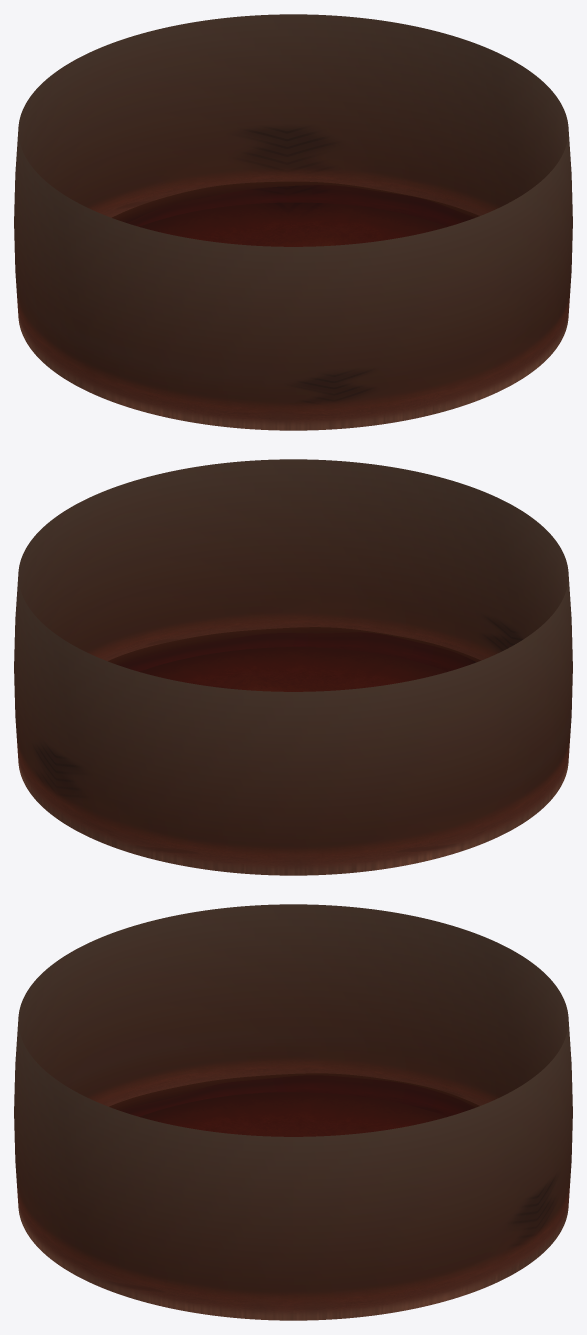
File: dome-basin-panorama.glb
3 renders of one model, top to bottom at view 1: azimuth 30°, elevation 25°; view 2: azimuth 150°, elevation 25°; view 3: azimuth 270°, elevation 25°, orthographic.
Parts seen in each view (by area): view 1: DomeBasinPanorama; view 2: DomeBasinPanorama; view 3: DomeBasinPanorama.
Boxes of the visible parts, <box> form: DomeBasinPanorama: <box>14,14,572,430</box>; DomeBasinPanorama: <box>14,459,572,875</box>; DomeBasinPanorama: <box>14,904,572,1320</box>.
Bounding box in the file's own units: 386 × 140 × 386.
1 material, 1 textured.
